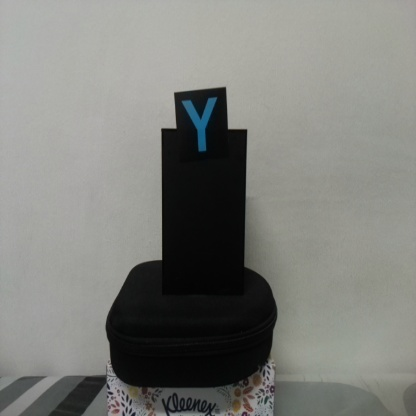id_14: (174, 91, 227, 163)
